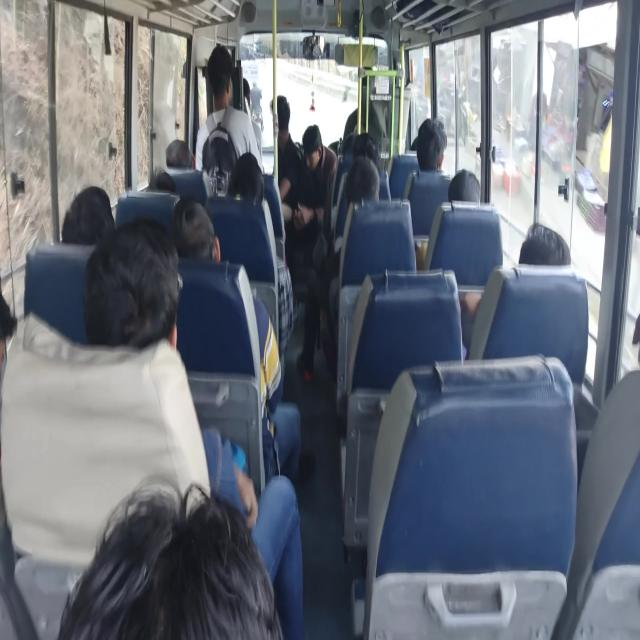person: (102, 487, 359, 640), (105, 242, 180, 378), (69, 178, 132, 282), (514, 204, 568, 290), (0, 258, 30, 374), (617, 274, 640, 394), (349, 165, 392, 216), (457, 163, 490, 222), (207, 45, 242, 100), (226, 164, 266, 211), (427, 111, 452, 175), (181, 202, 209, 259), (306, 116, 331, 176), (173, 124, 195, 172), (264, 96, 289, 135), (233, 76, 256, 118), (351, 118, 372, 162), (241, 140, 260, 184), (358, 142, 381, 177), (150, 168, 171, 205), (405, 121, 433, 141)
